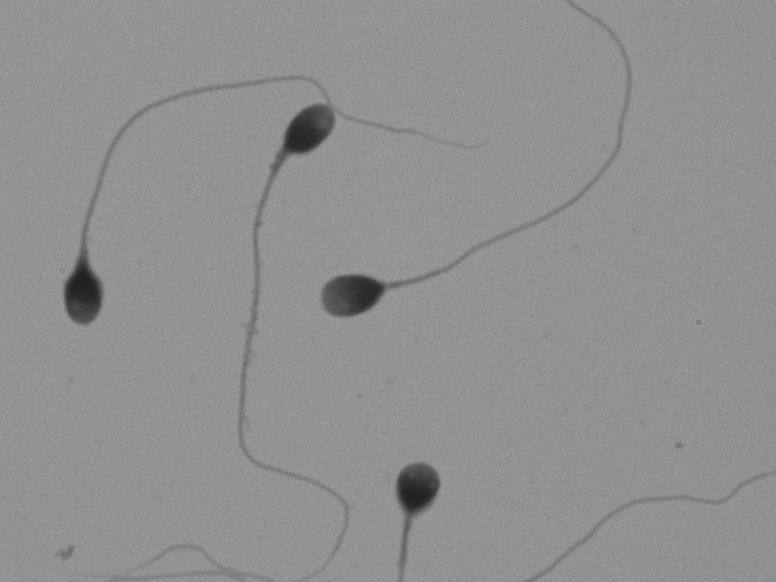Abnormal: (369, 439, 505, 559)
Normal: (192, 30, 353, 580), (315, 150, 684, 357), (28, 52, 250, 344)
